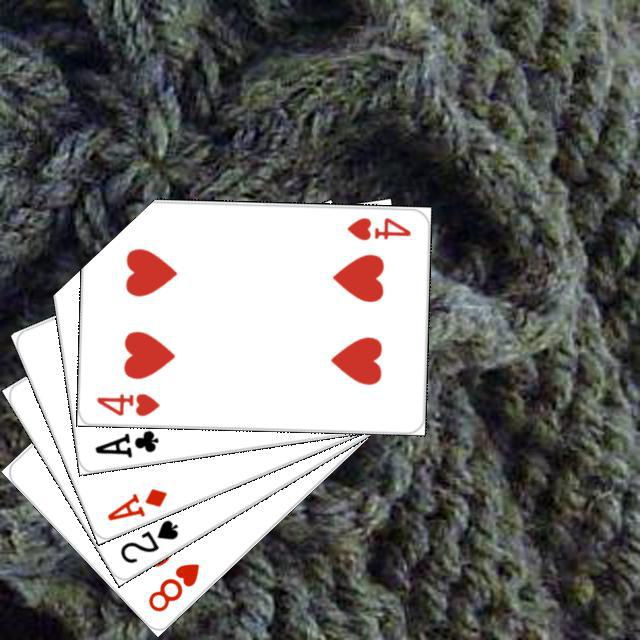2s: (115, 514, 181, 566)
4h: (91, 388, 161, 418), (342, 212, 412, 242)
8h: (143, 558, 201, 614)
Ac: (89, 425, 160, 459)
Ad: (101, 483, 169, 523)
